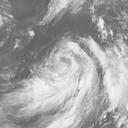cyclone: (37, 34, 107, 103)
